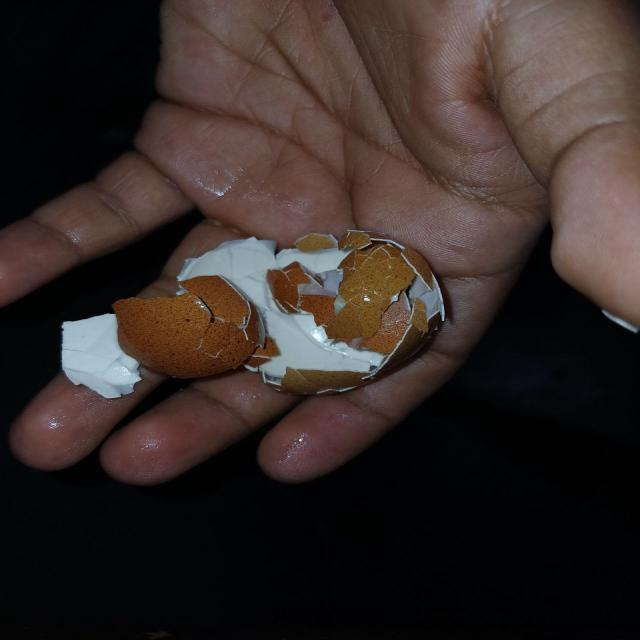organic: (61, 228, 446, 398)
